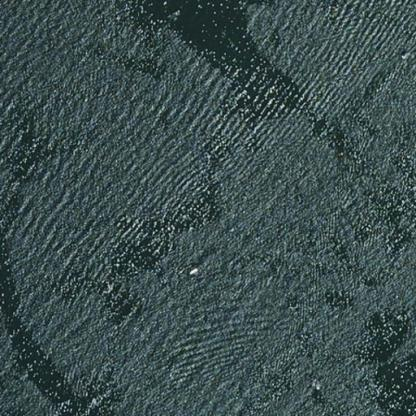ship: (20, 266, 31, 275)
